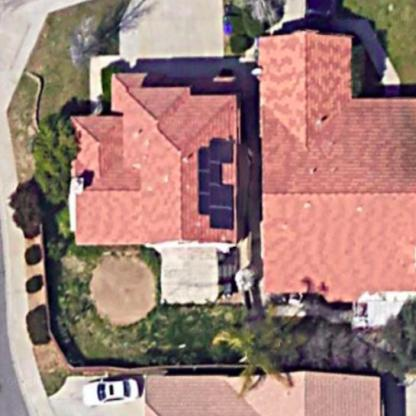car: (79, 374, 142, 409)
solar_panel: (185, 128, 245, 231)
